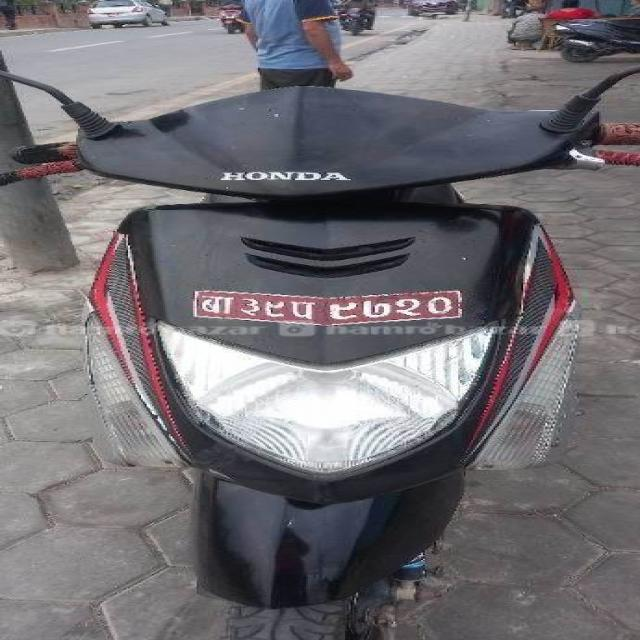License-plate: (189, 288, 475, 328)
